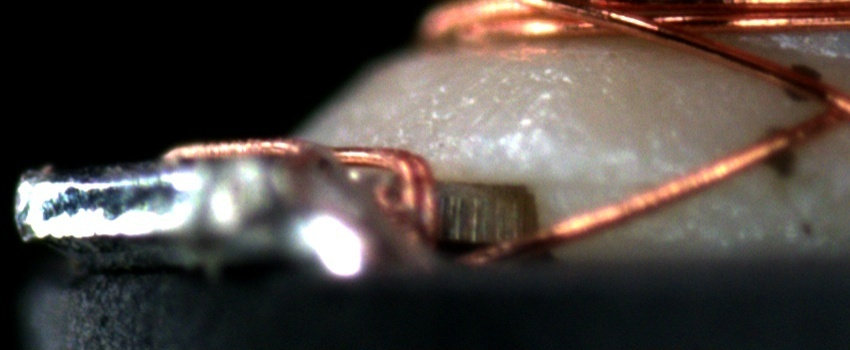DL: (487, 132, 706, 175)
TE: (156, 138, 440, 254)
